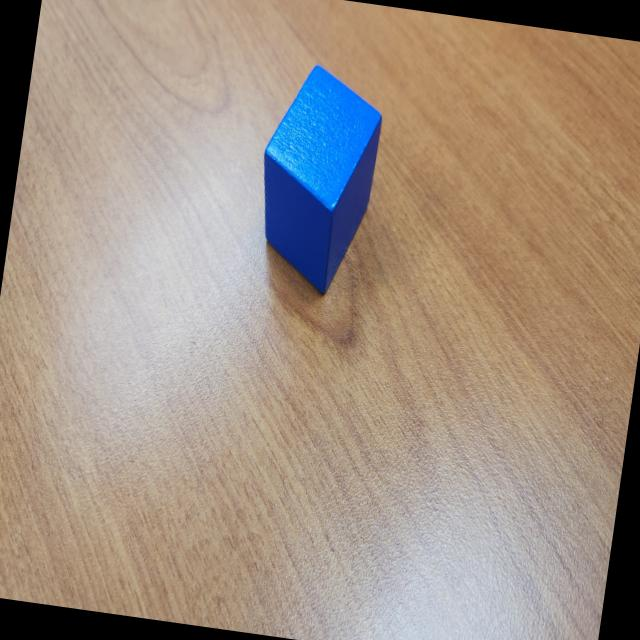blue: (245, 59, 389, 300)
